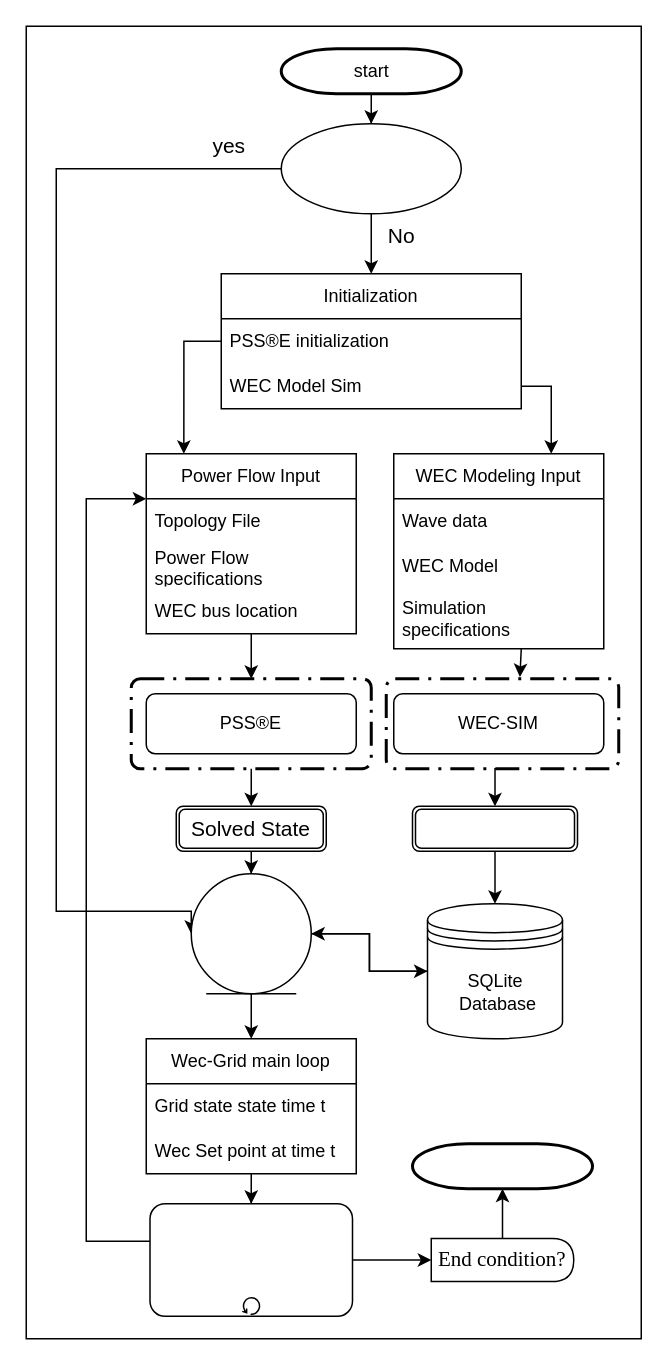
Some shapes in this 668 by 1365 pixel diagram are drawn without their labels. Here are the shapes that lost their labels. From the top down, the centre of each, then its label:
At point (370, 168): "System Initialized".
At point (494, 828): "WEC Setpoints".
At point (250, 933): "WecGrid Object".
At point (501, 1166): "End".
At point (250, 1259): "Setpoint data Injection".
